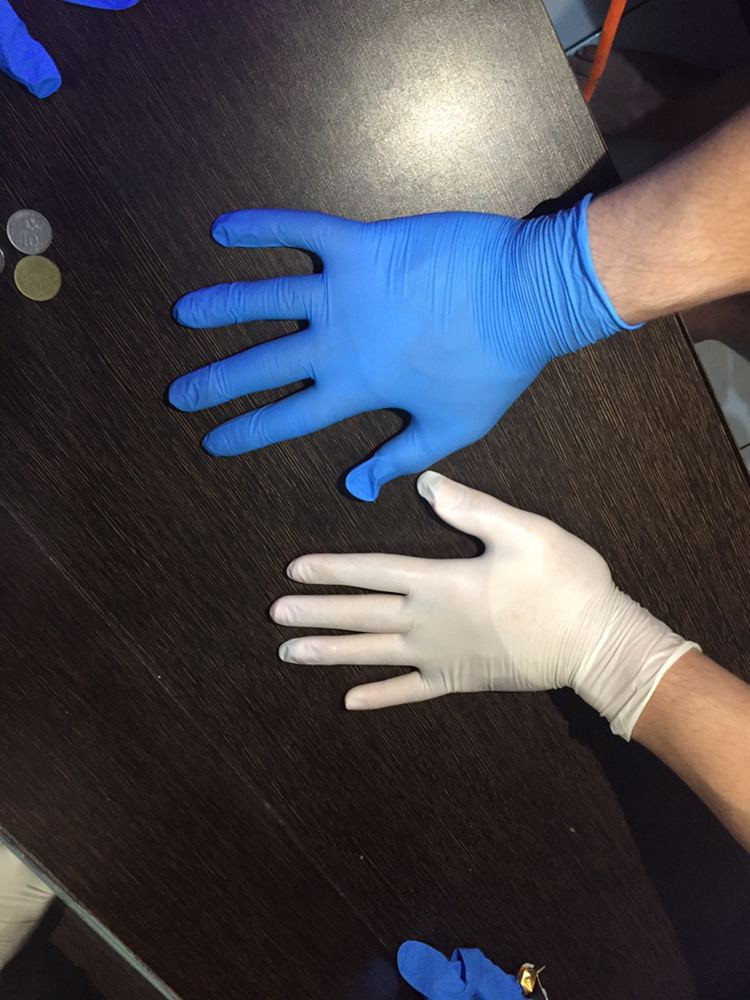glove: (136, 156, 539, 537), (220, 471, 648, 728)
